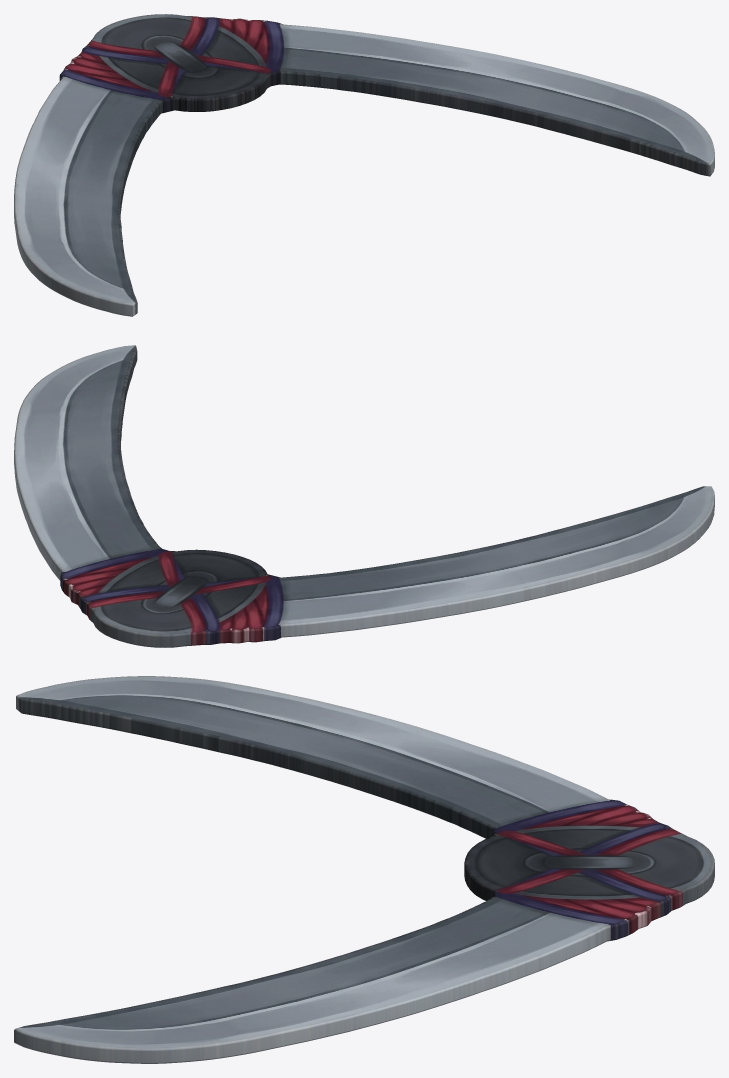
The model's file is Boomerang_41.fbx.
The picture shows the model from 3 angles, top to bottom: view 1: azimuth 30°, elevation 25°; view 2: azimuth 150°, elevation 25°; view 3: azimuth 270°, elevation 25°; orthographic projection. The views are drawn at different scales.
Visible parts, largest first — view 1: Boomerang_41; view 2: Boomerang_41; view 3: Boomerang_41.
Boxes of the visible parts, x1,y1,x2,y2 form: Boomerang_41: (14, 14, 714, 316); Boomerang_41: (14, 345, 714, 647); Boomerang_41: (14, 676, 714, 1063).
Bounding box in the file's own units: 210 × 4 × 166.
1 material, 1 textured.
